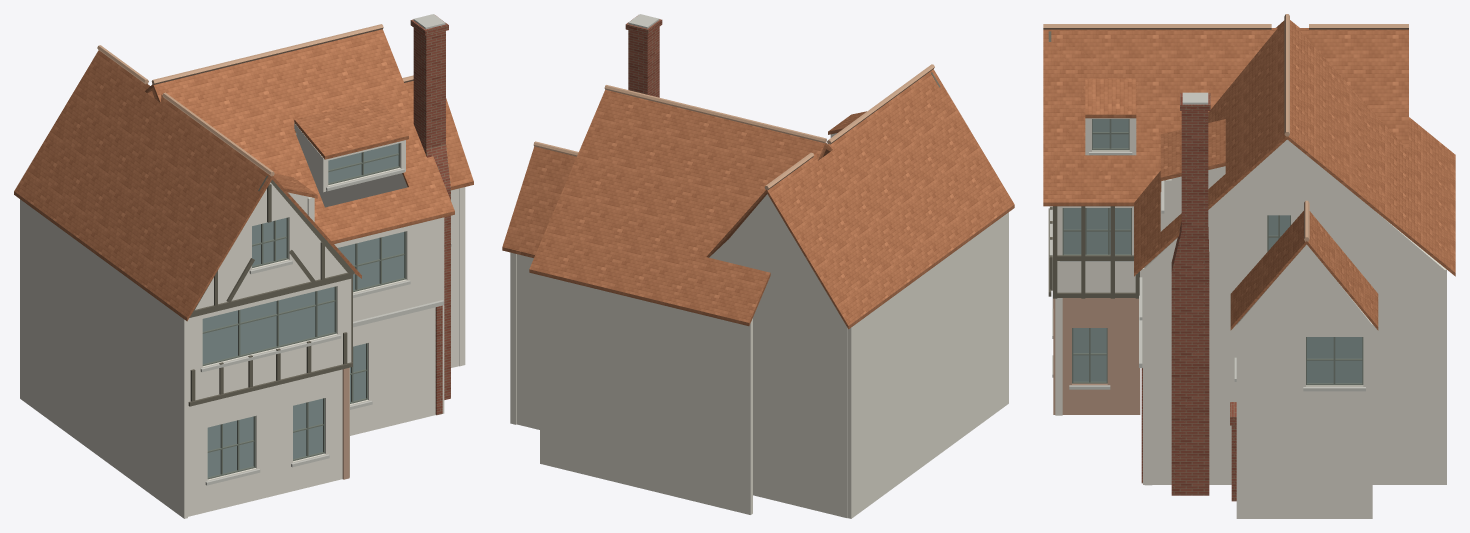
The model's file is changning-xinhua-236-english-garden-villa-lod.glb.
The picture shows the model from 3 angles, left to right: view 1: azimuth 30°, elevation 25°; view 2: azimuth 150°, elevation 25°; view 3: azimuth 270°, elevation 25°; orthographic projection. The views are drawn at different scales.
Parts seen in each view (by area): view 1: 新华路236号住宅木格山墙、双老虎窗与砖烟囱; view 2: 新华路236号住宅木格山墙、双老虎窗与砖烟囱; view 3: 新华路236号住宅木格山墙、双老虎窗与砖烟囱.
Boxes of the visible parts, <box> form: 新华路236号住宅木格山墙、双老虎窗与砖烟囱: <box>14,14,473,518</box>; 新华路236号住宅木格山墙、双老虎窗与砖烟囱: <box>502,14,1014,518</box>; 新华路236号住宅木格山墙、双老虎窗与砖烟囱: <box>1043,14,1455,518</box>.
Bounding box in the file's own units: 12.23 × 11.59 × 11.02.
Materials: 9 (2 with a texture image).
